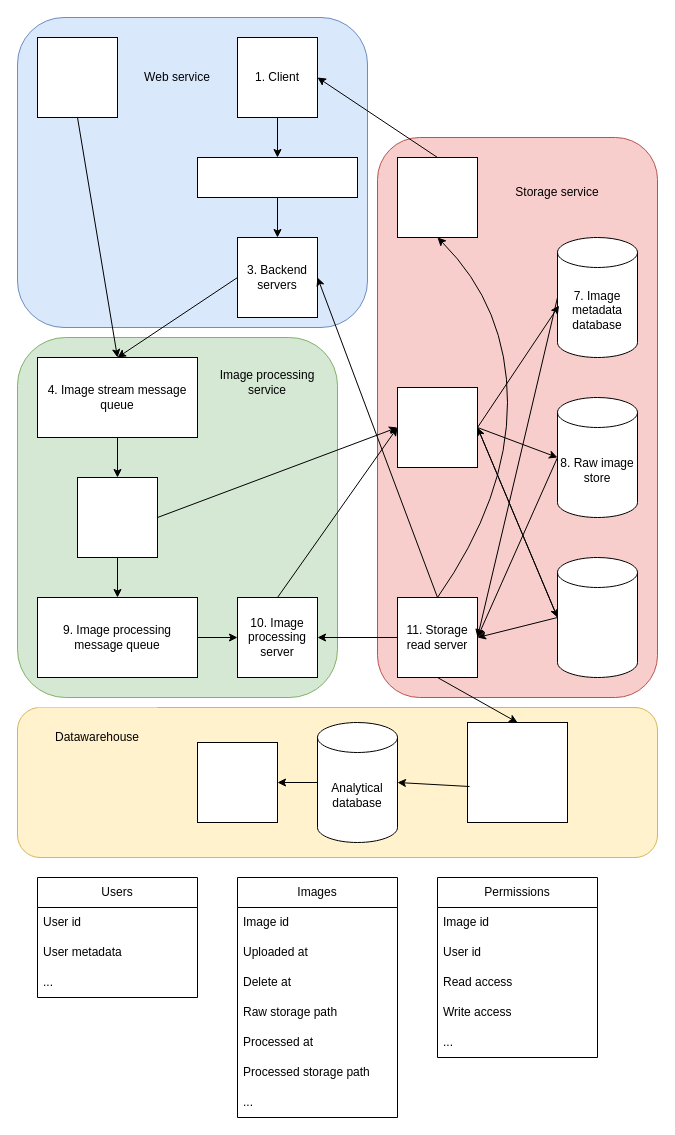
The diagram is 675 pixels wide and 1135 high, and some of its shapes have lost their labels. The centre of each missing label's shape, as x and y in pixels:
"12. Processed image store" belongs at (597,617).
"13. CDN" belongs at (437,197).
"2. Load Balancer" belongs at (277,177).
"5. Images stream handlers" belongs at (117,517).
"6. Storage write server" belongs at (437,427).
"Analytical tools" belongs at (237,782).
"Data ETL server" belongs at (517,772).
"Web application" belongs at (77,77).
